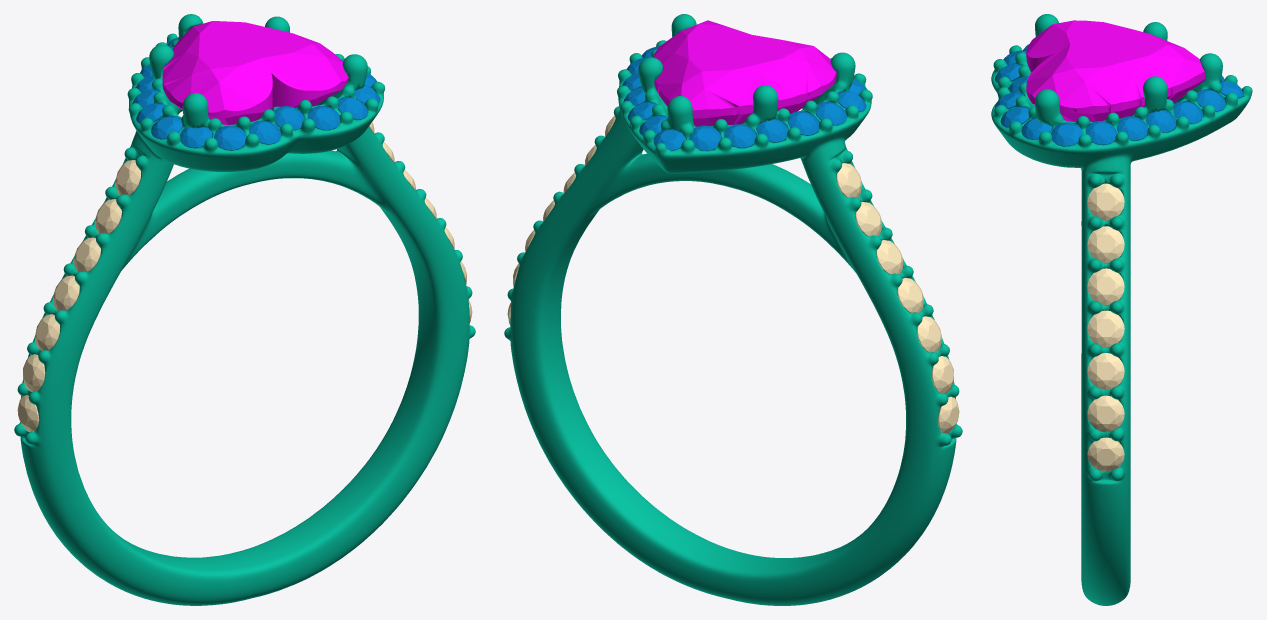
File: BE1BDB30R30_HT_200ct_RENDER.glb
3 views of the same model, side by side, from view 1: azimuth 30°, elevation 25°; view 2: azimuth 150°, elevation 25°; view 3: azimuth 270°, elevation 25° (orthographic). The views are drawn at different scales.
Visible parts, largest first — view 1: Metal 01, CS_Diamond_Heart, Diamond_Round_Gem_SH.010, Diamond_Round_Gem_SH.009, Diamond_Round_Gem_SH.008, Diamond_Round_Gem_SH.011, Diamond_Round_Gem_SH.007, Diamond_Round_Gem_SH.012, Diamond_Round_Gem_HD.012, Diamond_Round_Gem_HD.004; view 2: Metal 01, CS_Diamond_Heart, Diamond_Round_Gem_SH.009, Diamond_Round_Gem_SH.010, Diamond_Round_Gem_SH.008, Diamond_Round_Gem_SH.011, Diamond_Round_Gem_SH.007, Diamond_Round_Gem_SH.012, Diamond_Round_Gem_HD.014; view 3: Metal 01, CS_Diamond_Heart, Diamond_Round_Gem_SH.001, Diamond_Round_Gem_SH.002, Diamond_Round_Gem_SH.003, Diamond_Round_Gem_SH.006, Diamond_Round_Gem_SH.004, Diamond_Round_Gem_SH.005, Diamond_Round_Gem_SH, Diamond_Round_Gem_HD.003, Diamond_Round_Gem_HD.002, Diamond_Round_Gem_HD.009 (+5 smaller).
Boxes of the visible parts, x1,y1,x2,y2 form: Metal 01: (14,14,475,605); CS_Diamond_Heart: (162,21,348,124); Diamond_Round_Gem_SH.010: (53,275,79,310); Diamond_Round_Gem_SH.009: (74,237,100,272); Diamond_Round_Gem_SH.008: (95,199,121,233); Diamond_Round_Gem_SH.011: (35,314,60,350); Diamond_Round_Gem_SH.007: (115,160,140,195); Diamond_Round_Gem_SH.012: (23,354,45,391); Diamond_Round_Gem_HD.012: (214,125,246,150); Diamond_Round_Gem_HD.004: (307,106,339,130); Metal 01: (504,14,962,605); CS_Diamond_Heart: (653,20,836,126); Diamond_Round_Gem_SH.009: (876,240,903,274); Diamond_Round_Gem_SH.010: (897,278,923,312); Diamond_Round_Gem_SH.008: (855,202,882,236); Diamond_Round_Gem_SH.011: (917,316,941,352); Diamond_Round_Gem_SH.007: (836,163,861,197); Diamond_Round_Gem_SH.012: (932,356,953,393); Diamond_Round_Gem_HD.014: (689,125,721,150); Metal 01: (991,14,1252,605); CS_Diamond_Heart: (1026,20,1205,121); Diamond_Round_Gem_SH.001: (1087,395,1124,432); Diamond_Round_Gem_SH.002: (1087,353,1124,389); Diamond_Round_Gem_SH.003: (1087,310,1124,347); Diamond_Round_Gem_SH.006: (1087,183,1124,220); Diamond_Round_Gem_SH.004: (1087,268,1124,304); Diamond_Round_Gem_SH.005: (1087,226,1124,262); Diamond_Round_Gem_SH: (1087,437,1124,471); Diamond_Round_Gem_HD.003: (1051,122,1082,146); Diamond_Round_Gem_HD.002: (1085,121,1117,145); Diamond_Round_Gem_HD.009: (1117,116,1148,140).
Bounding box in the file's own units: 20.41 × 24.02 × 10.61.
